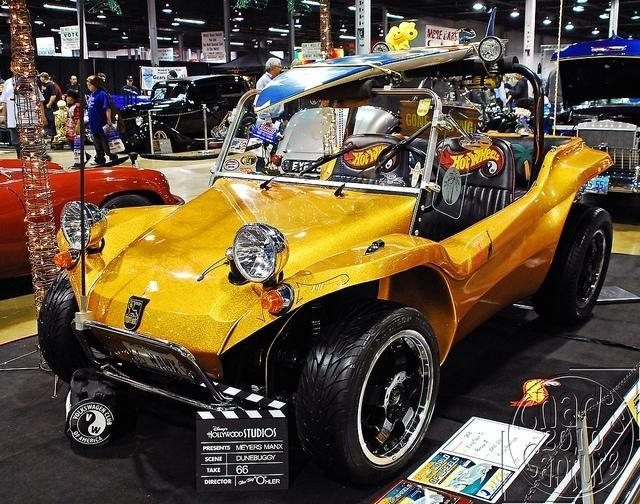car: (36, 44, 616, 482), (0, 159, 187, 301), (118, 72, 253, 152)
truck: (543, 30, 640, 201)
